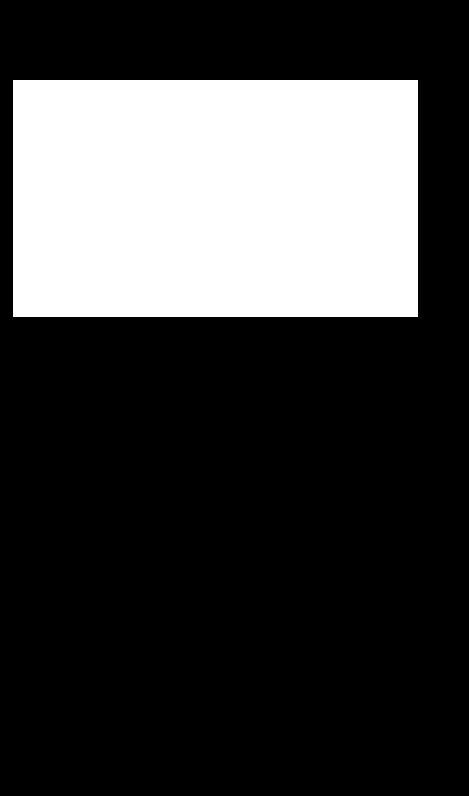table: (13, 80, 417, 316)
